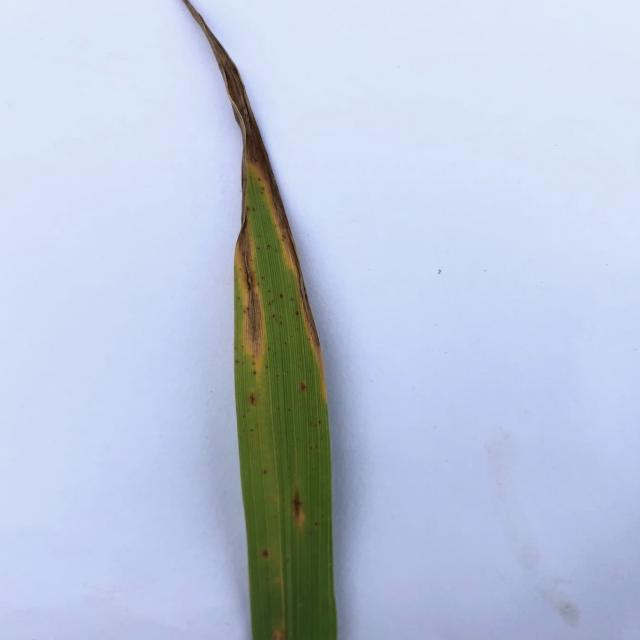tungro: (245, 97, 329, 375), (233, 203, 267, 390)
